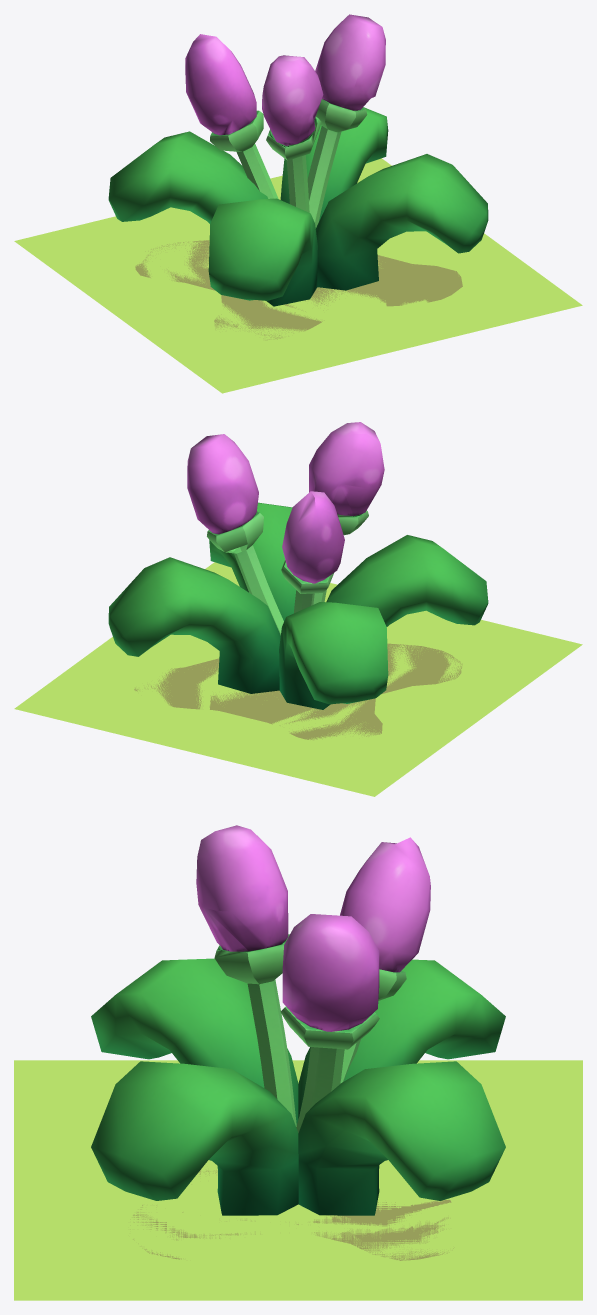
Rendered from PurpleFlower.fbx.
3 views of the same model, one above another, from view 1: azimuth 30°, elevation 25°; view 2: azimuth 150°, elevation 25°; view 3: azimuth 270°, elevation 25° (orthographic). The views are drawn at different scales.
Parts seen in each view (by area): view 1: PurpleFlowerGrid, PurpleFlowerLeaves, PurpleFlower, PurpleFlowerShadow, PurpleFlower1, PurpleFlower2; view 2: PurpleFlowerGrid, PurpleFlowerLeaves, PurpleFlowerShadow, PurpleFlower, PurpleFlower2, PurpleFlower1; view 3: PurpleFlowerGrid, PurpleFlowerLeaves, PurpleFlower2, PurpleFlower, PurpleFlower1, PurpleFlowerShadow.
Part boxes in pixels (box(x1,y1,x2,y2)): PurpleFlowerGrid: box(14, 158, 582, 393); PurpleFlowerLeaves: box(108, 107, 488, 306); PurpleFlower: box(307, 14, 385, 228); PurpleFlowerShadow: box(135, 240, 462, 340); PurpleFlower1: box(185, 34, 278, 198); PurpleFlower2: box(262, 55, 323, 212); PurpleFlowerGrid: box(14, 562, 582, 796); PurpleFlowerLeaves: box(108, 502, 488, 709); PurpleFlowerShadow: box(134, 643, 462, 740); PurpleFlower: box(187, 434, 283, 635); PurpleFlower2: box(309, 422, 384, 604); PurpleFlower1: box(281, 491, 344, 613); PurpleFlowerGrid: box(14, 1060, 582, 1300); PurpleFlowerLeaves: box(91, 958, 505, 1215); PurpleFlower2: box(196, 825, 296, 1126); PurpleFlower: box(280, 914, 379, 1132); PurpleFlower1: box(340, 837, 430, 1083); PurpleFlowerShadow: box(130, 1170, 454, 1260).
Bounding box in the file's own units: 100 × 65.05 × 100.
